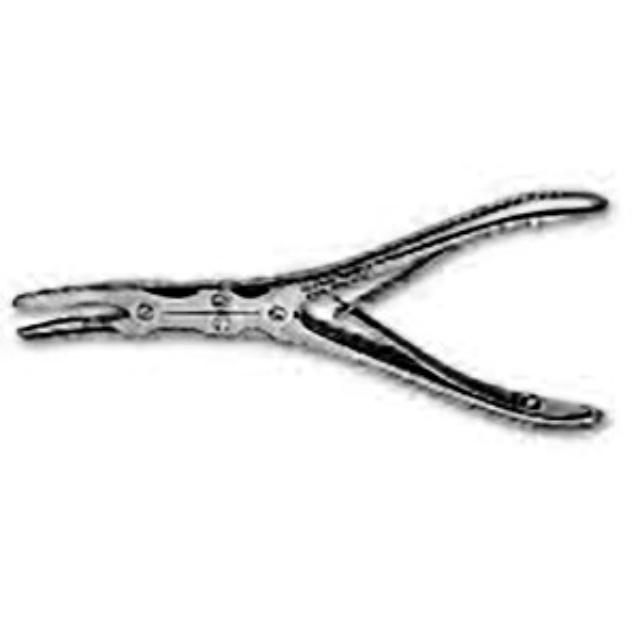gubia: (13, 184, 611, 432)
